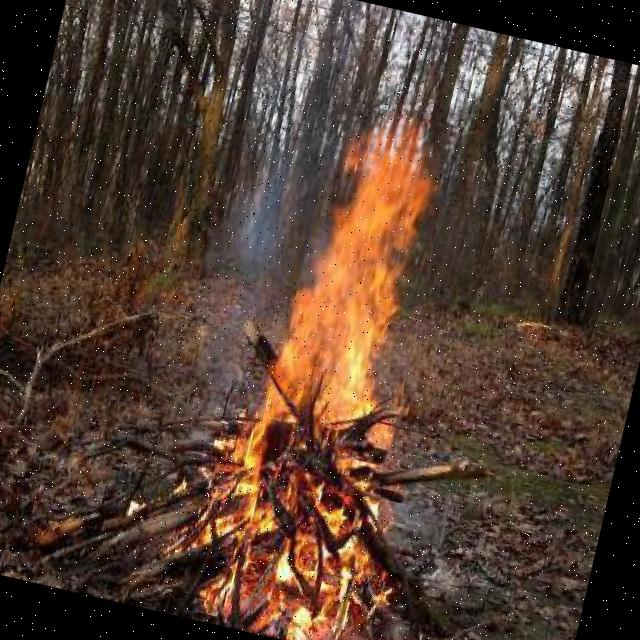fire: (235, 99, 464, 582)
